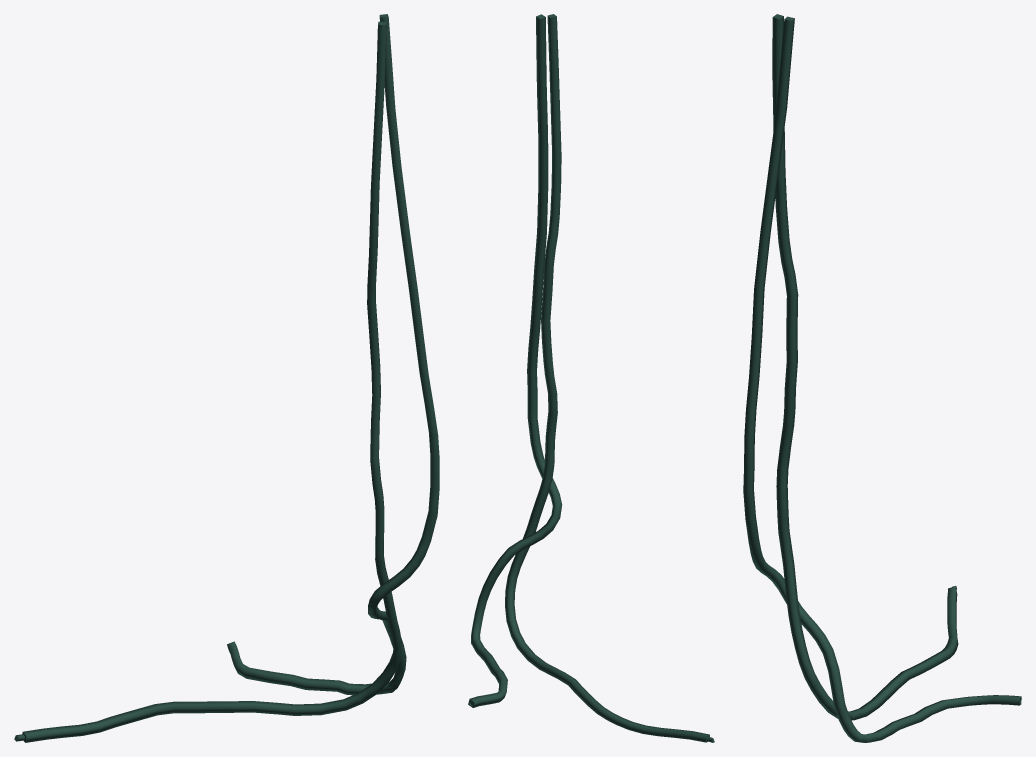
File: CableHanging_Med_03.glb
3 views of the same model, side by side, from view 1: azimuth 30°, elevation 25°; view 2: azimuth 150°, elevation 25°; view 3: azimuth 270°, elevation 25° (orthographic). The views are drawn at different scales.
Parts seen in each view (by area): view 1: CableHanging_Med_03.001; view 2: CableHanging_Med_03.001; view 3: CableHanging_Med_03.001.
Boxes of the visible parts, box(x1,y1,x2,y2) form: CableHanging_Med_03.001: box(14, 14, 439, 742); CableHanging_Med_03.001: box(468, 14, 714, 742); CableHanging_Med_03.001: box(743, 14, 1021, 742).
Size of the model in its own units: 1.01 by 2.09 by 0.7325.
